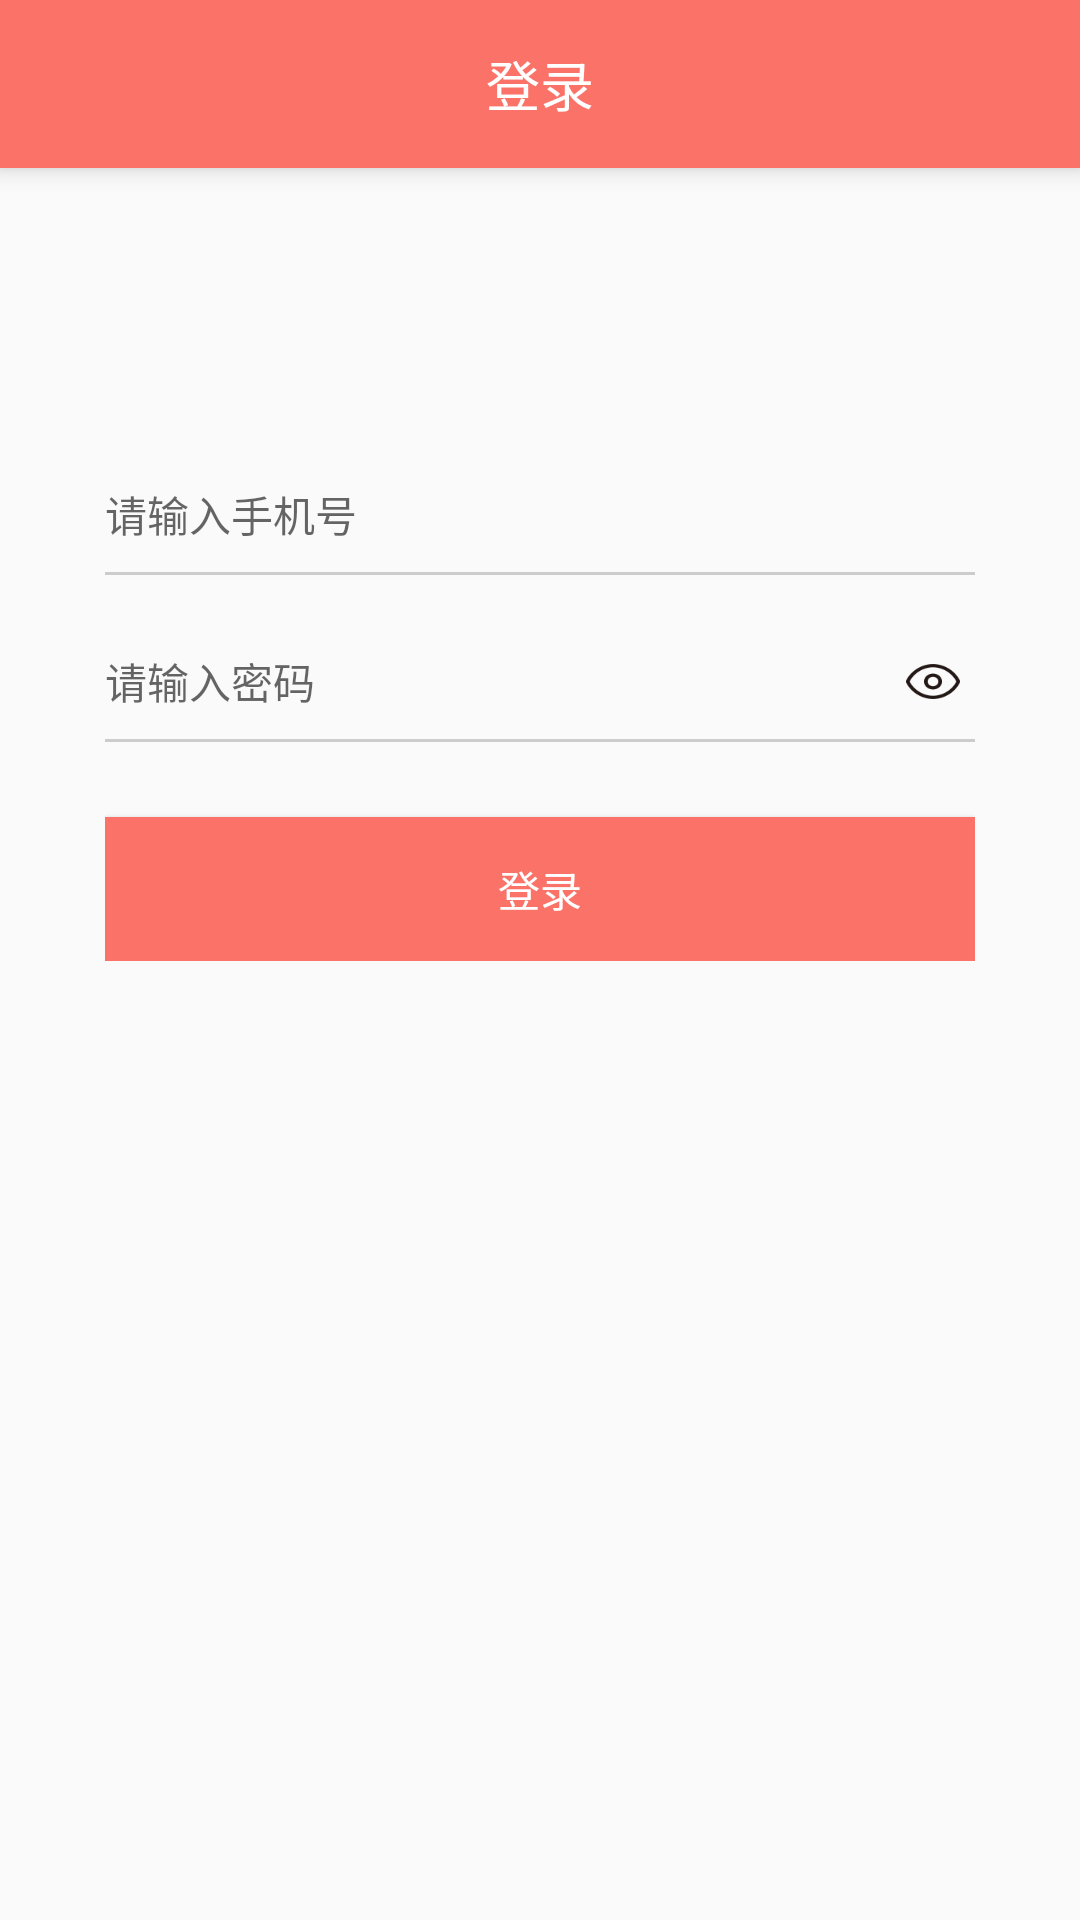

Locate icon controls on the screen. Image size 1080×1920, boxes as region(x1, y1, x2, y2).
check details: region(906, 664, 960, 699)
